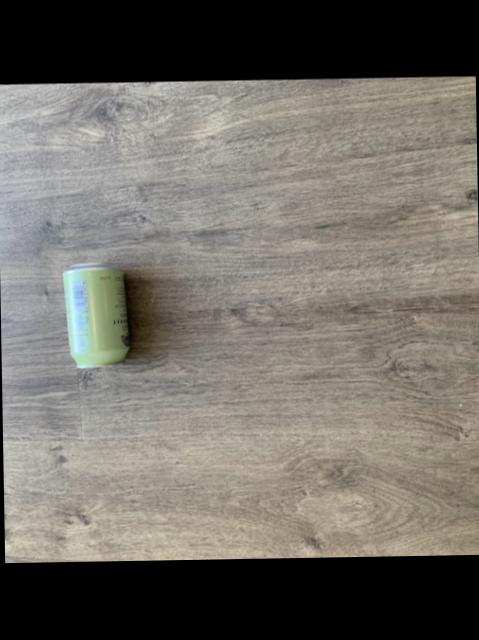metal: (63, 266, 128, 369)
